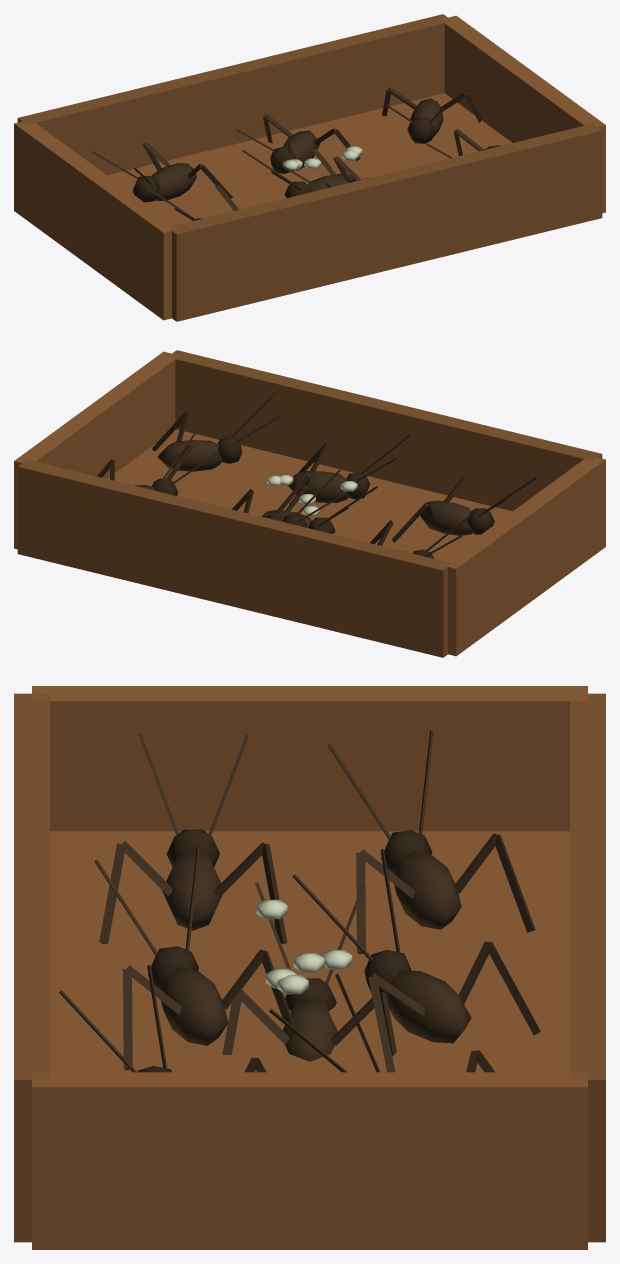
The model's file is Insect_Cricket.fbx.
The picture shows the model from 3 angles, top to bottom: view 1: azimuth 30°, elevation 25°; view 2: azimuth 150°, elevation 25°; view 3: azimuth 270°, elevation 25°; orthographic projection. The views are drawn at different scales.
Parts seen in each view (by area): view 1: Insect_Cricket__Stack, Insect_Cricket, Insect_Cricket__Rotten; view 2: Insect_Cricket__Stack, Insect_Cricket, Insect_Cricket__Rotten; view 3: Insect_Cricket__Stack, Insect_Cricket, Insect_Cricket__Rotten.
Part boxes in pixels (x1,y1,x2,y2): Insect_Cricket__Stack: [14, 14, 605, 321]; Insect_Cricket: [242, 148, 356, 197]; Insect_Cricket__Rotten: [283, 146, 362, 170]; Insect_Cricket__Stack: [14, 350, 605, 657]; Insect_Cricket: [261, 485, 377, 533]; Insect_Cricket__Rotten: [267, 474, 357, 516]; Insect_Cricket__Stack: [14, 686, 605, 1249]; Insect_Cricket: [222, 882, 396, 1061]; Insect_Cricket__Rotten: [256, 899, 352, 994].
Size of the model in its own units: 0.2119 by 0.04 by 0.1321.
